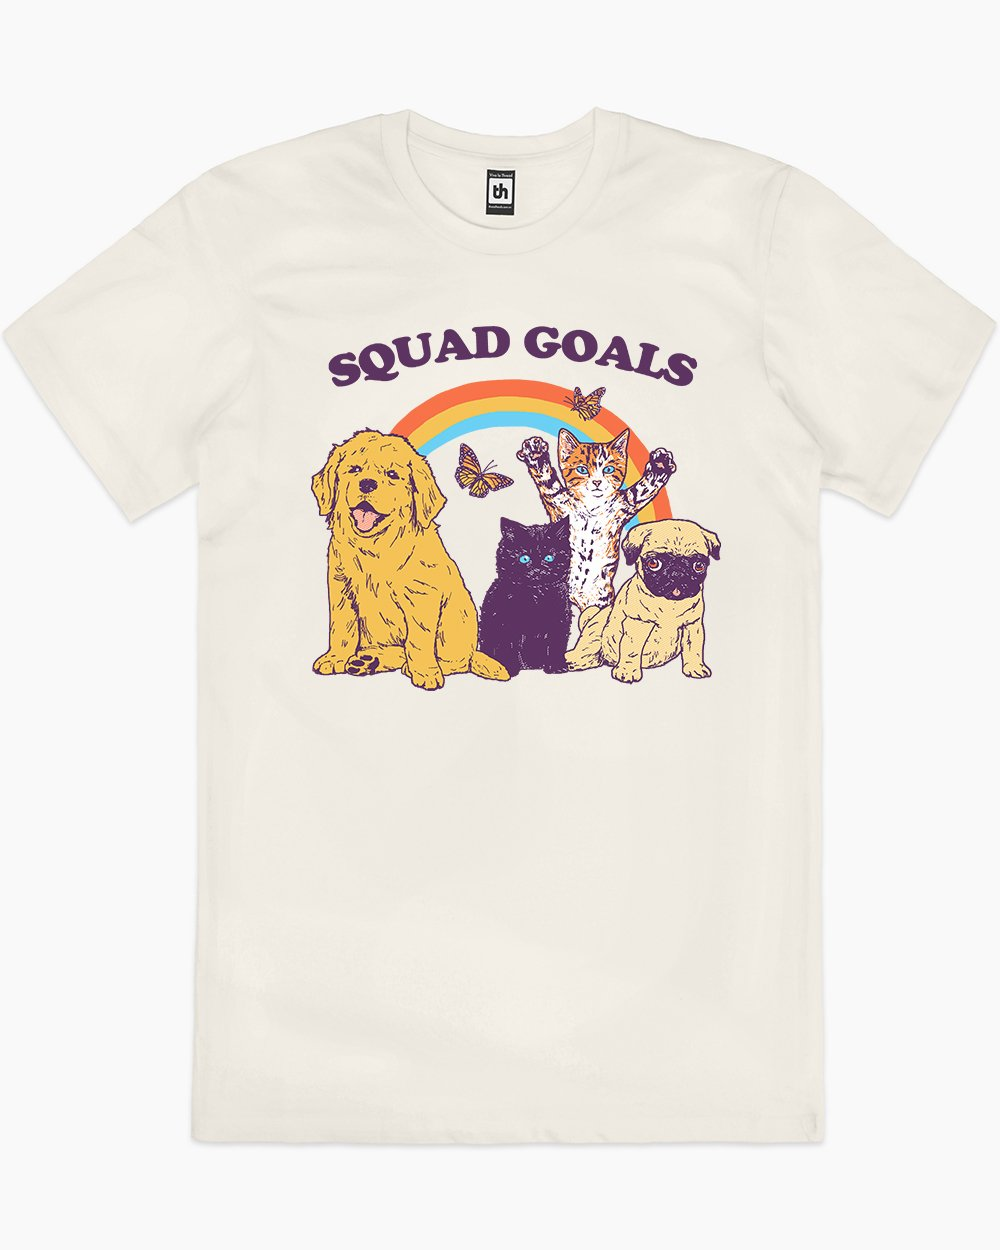design: (305, 317, 727, 695)
